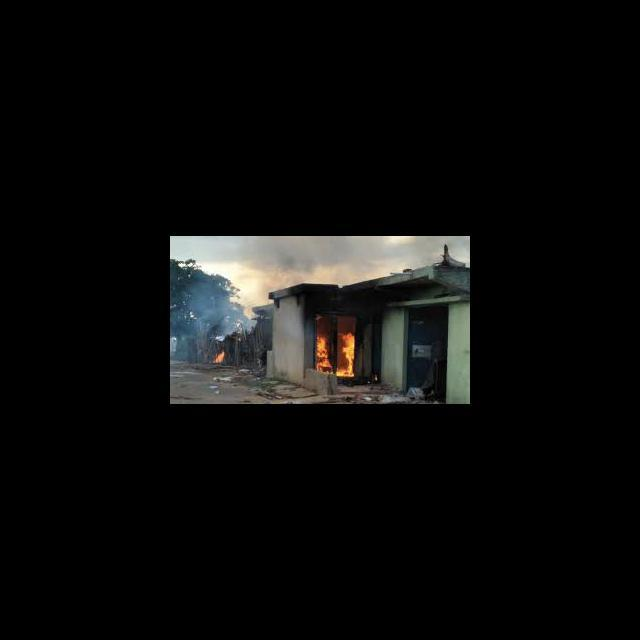Fire: (338, 328, 356, 378), (315, 326, 333, 374), (212, 350, 230, 368)
